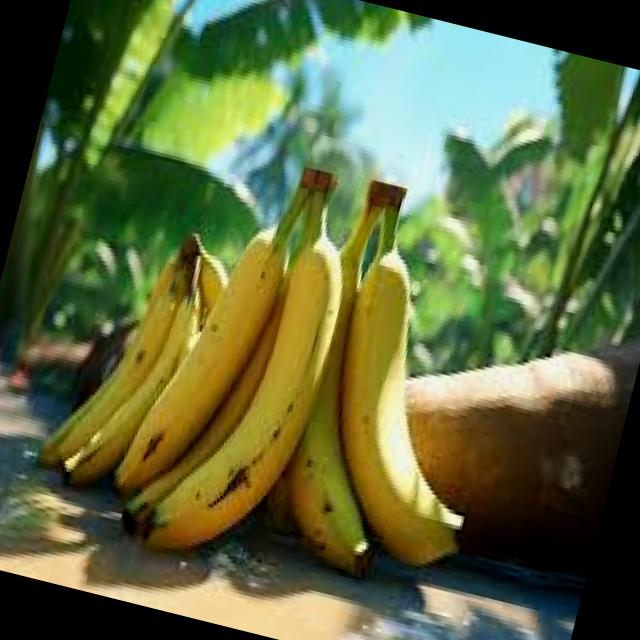Banana: (259, 173, 541, 605), (98, 138, 370, 576), (34, 203, 238, 503)
